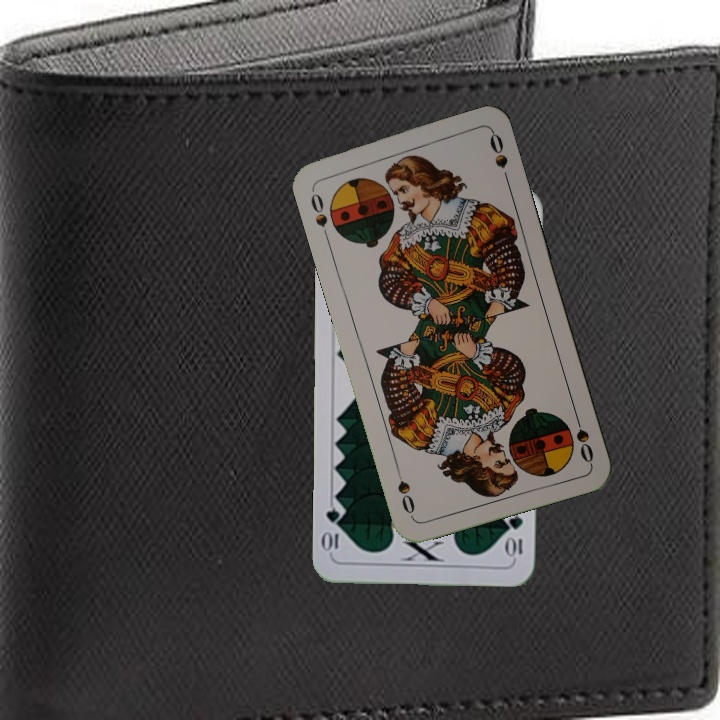G10: (505, 510, 525, 560)
SO: (570, 407, 596, 466), (306, 183, 330, 230)
